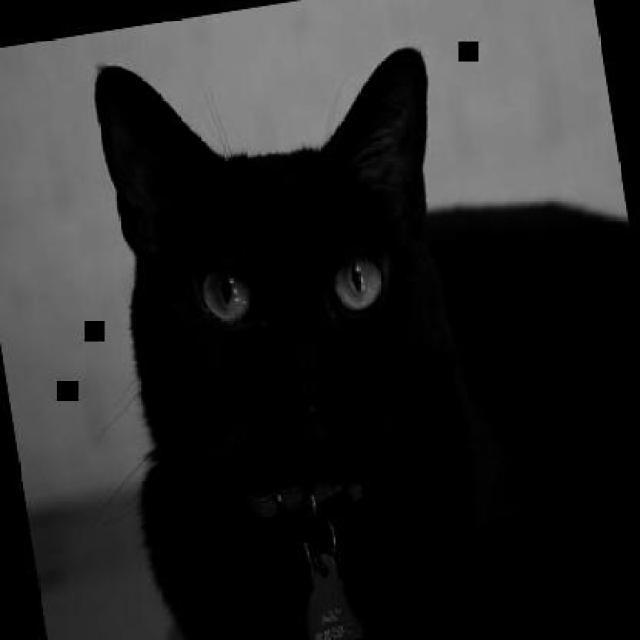cat: (70, 19, 464, 504)
